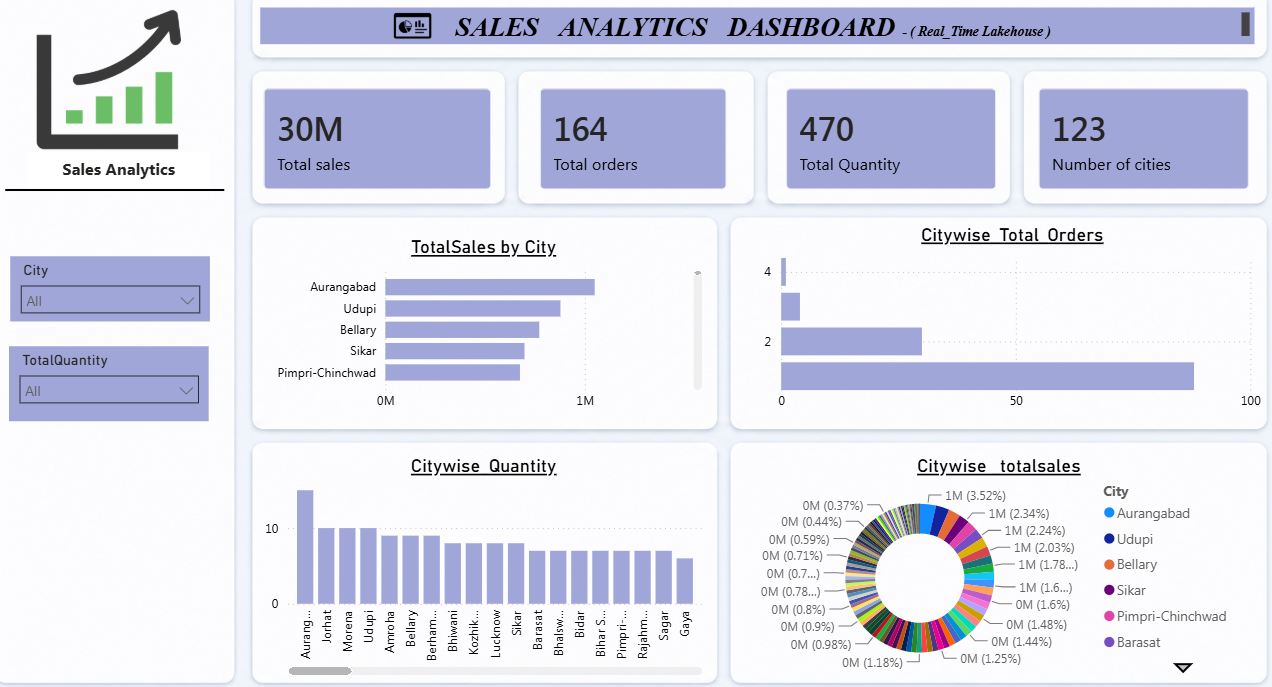

This screenshot's page, from the dashboard's own definition file:
{"tool":"powerbi","page":{"name":"DB","canvas":[1280,720],"ordinal":0},"visuals":[{"type":"cardVisual","fields":{"Data":["orders.Total sales"]},"box":[262.5,90,257.5,133.8],"z":0},{"type":"barChart","title":" TotalSales by City","fields":{"Y":["Sum(orders.TotalSales)"],"Category":["orders.City"]},"box":[276.2,251.2,438.8,180],"z":1000},{"type":"cardVisual","fields":{"Data":["orders.Total orders"]},"box":[533.8,90,217.5,133.8],"z":1001},{"type":"cardVisual","fields":{"Data":["orders.Total Quantity"]},"box":[775,90,240,133.8],"z":1002},{"type":"cardVisual","fields":{"Data":["orders.Number of cities"]},"box":[1023.8,90,240,133.8],"z":1003},{"type":"textbox","box":[276.2,27.5,976.2,36.2],"z":1004},{"type":"clusteredBarChart","title":"Citywise_Total_Orders","fields":{"Y":["CountNonNull(orders.City)"],"Category":["orders.TotalOrders"]},"box":[766.2,238.8,497.5,192.5],"z":1005},{"type":"columnChart","title":"Citywise_Quantity","fields":{"Category":["orders.City"],"Y":["orders.Total Quantity"]},"box":[276.2,466.2,438.8,221.2],"z":1006},{"type":"donutChart","title":"Citywise _totalsales","fields":{"Category":["orders.City"],"Y":["orders.Total sales"]},"box":[738.8,466.2,525,221.2],"z":1007},{"type":"slicer","fields":{"Values":["orders.City"]},"box":[31.2,271.2,196.2,63.8],"z":1008},{"type":"slicer","fields":{"Values":["orders.TotalQuantity"]},"box":[30,360,196.2,73.8],"z":1009},{"type":"image","box":[30,27.5,196.2,141.2],"z":1010},{"type":"textbox","box":[47.5,168.8,178.8,35],"z":1011},{"type":"shape","box":[26.2,172.5,215,66.2],"z":1012},{"type":"image","box":[400,27.5,51.2,36.2],"z":1013}]}

Visuals, with their boxes on the page's 1280x720 design canvas (x1, y1, x2, y2). These are canvas units, not pixel positions in the 1272x687 screenshot, which may show the page scaled, cropped or inside an application window:
cardVisual - orders.Total sales: left=262, top=90, right=520, bottom=224
" TotalSales by City" barChart: left=276, top=251, right=715, bottom=431
cardVisual - orders.Total orders: left=534, top=90, right=751, bottom=224
cardVisual - orders.Total Quantity: left=775, top=90, right=1015, bottom=224
cardVisual - orders.Number of cities: left=1024, top=90, right=1264, bottom=224
textbox: left=276, top=28, right=1252, bottom=64
"Citywise_Total_Orders" clusteredBarChart: left=766, top=239, right=1264, bottom=431
"Citywise_Quantity" columnChart: left=276, top=466, right=715, bottom=687
"Citywise _totalsales" donutChart: left=739, top=466, right=1264, bottom=687
slicer - orders.City: left=31, top=271, right=227, bottom=335
slicer - orders.TotalQuantity: left=30, top=360, right=226, bottom=434
image: left=30, top=28, right=226, bottom=169
textbox: left=48, top=169, right=226, bottom=204
shape: left=26, top=172, right=241, bottom=239
image: left=400, top=28, right=451, bottom=64
